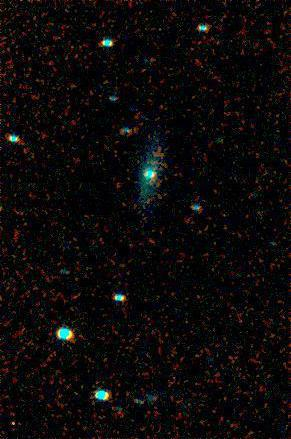star: (0, 406, 30, 436)
